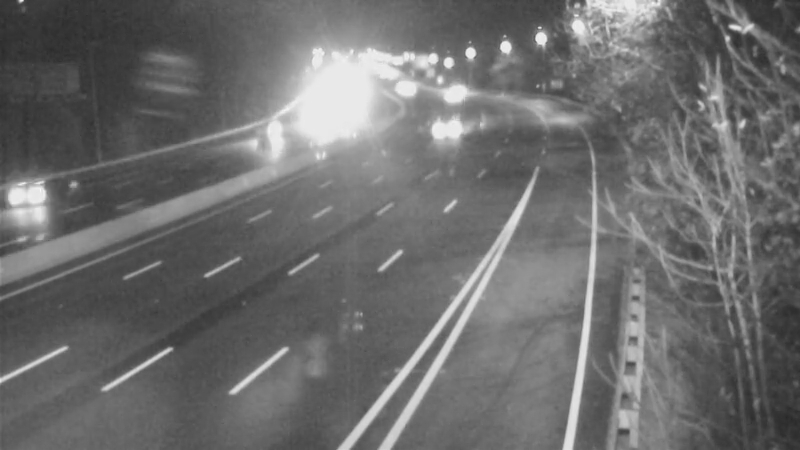vehicle: (1, 155, 73, 235), (380, 59, 430, 109), (387, 65, 437, 115), (419, 66, 469, 116), (427, 69, 477, 119), (417, 103, 467, 153), (251, 113, 301, 163)
